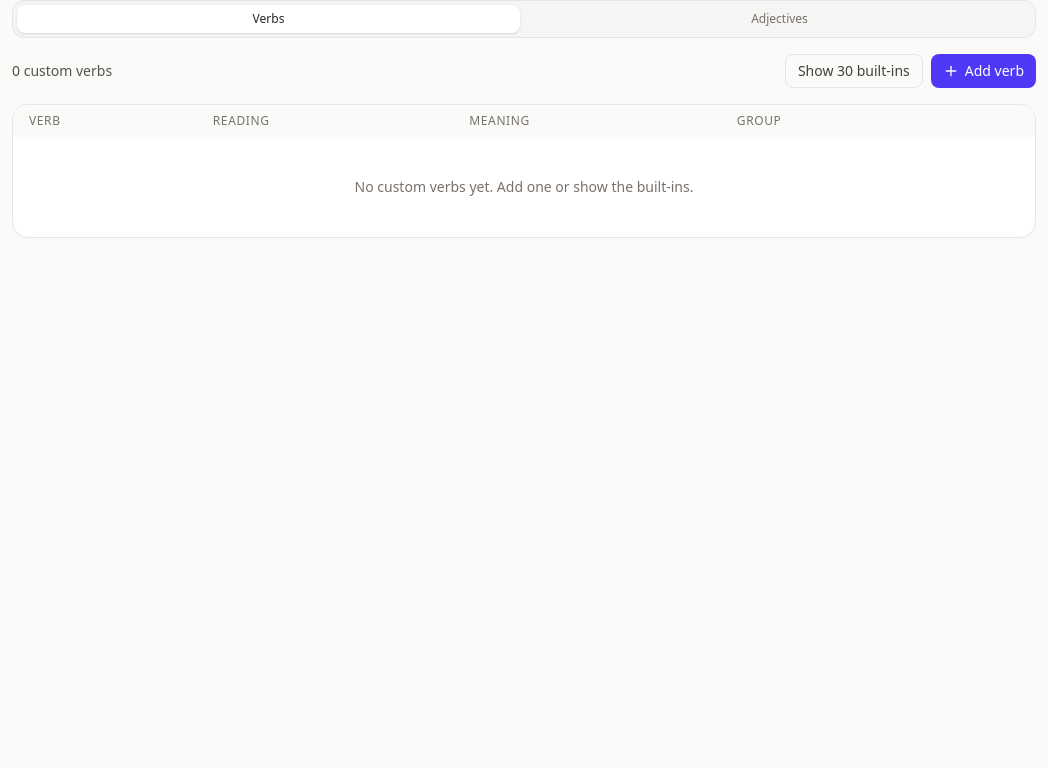
CustomDictionaryViewSub suggestions › labels manual word fields and the word group control
Click the button "Add verb".
click(983, 71)  # box [931,54,1036,88]
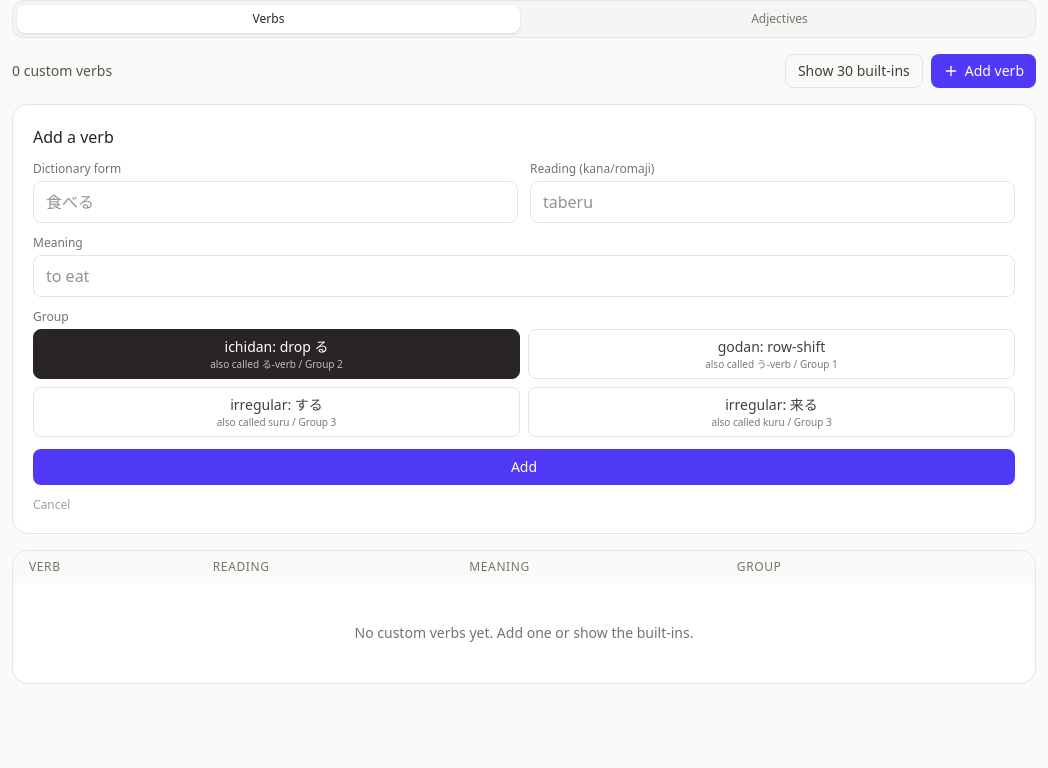
Result: the field labelled "Dictionary form" is shown at [33,181,518,223]
Result: the field labelled "Reading (kana/romaji)" is shown at [530,181,1015,223]
Result: the field labelled "Meaning" is shown at [33,255,1015,297]
